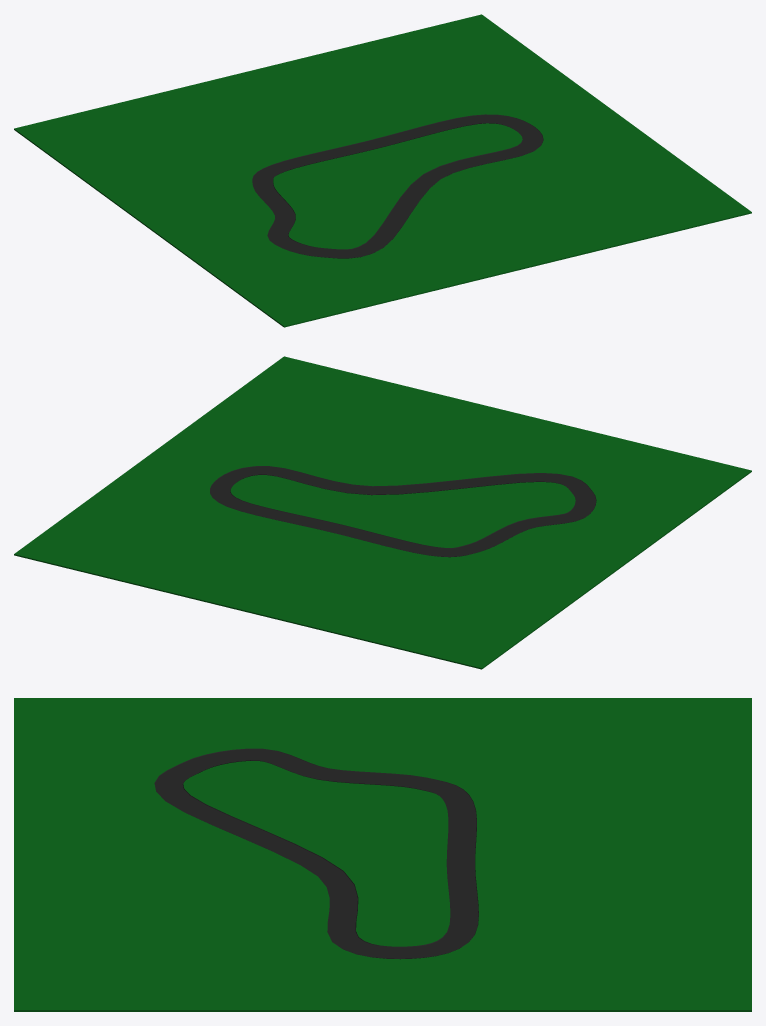
File: encoreuntest.DAE
3 renders of one model, top to bottom at view 1: azimuth 30°, elevation 25°; view 2: azimuth 150°, elevation 25°; view 3: azimuth 270°, elevation 25°, orthographic. The views are drawn at different scales.
Visible parts, largest first — view 1: Polygone001, Extrusion001; view 2: Polygone001, Extrusion001; view 3: Polygone001, Extrusion001.
Part boxes in pixels (x1,y1,x2,y2): Polygone001: [14, 14, 751, 327]; Extrusion001: [252, 114, 543, 258]; Polygone001: [14, 356, 751, 669]; Extrusion001: [210, 466, 596, 557]; Polygone001: [14, 698, 751, 1011]; Extrusion001: [154, 748, 478, 959].
Bounding box in the file's own units: 180 × 0.6675 × 180.
